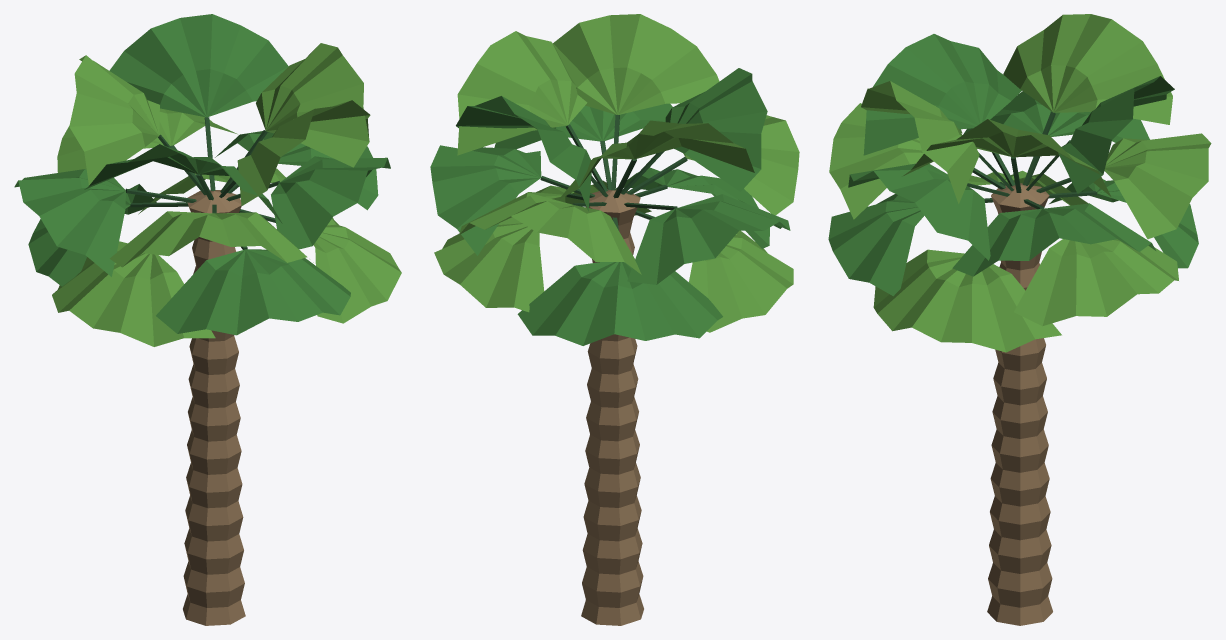
File: palmeira.glb
3 views of the same model, side by side, from view 1: azimuth 30°, elevation 25°; view 2: azimuth 150°, elevation 25°; view 3: azimuth 270°, elevation 25° (orthographic).
Visible parts, largest first — view 1: palmeira; view 2: palmeira; view 3: palmeira.
Boxes of the visible parts, left/top/right/bottom form: palmeira: left=14, top=14, right=401, bottom=625; palmeira: left=430, top=14, right=799, bottom=625; palmeira: left=828, top=14, right=1211, bottom=625.
Size of the model in its own units: 2.62 by 4.14 by 2.6.
